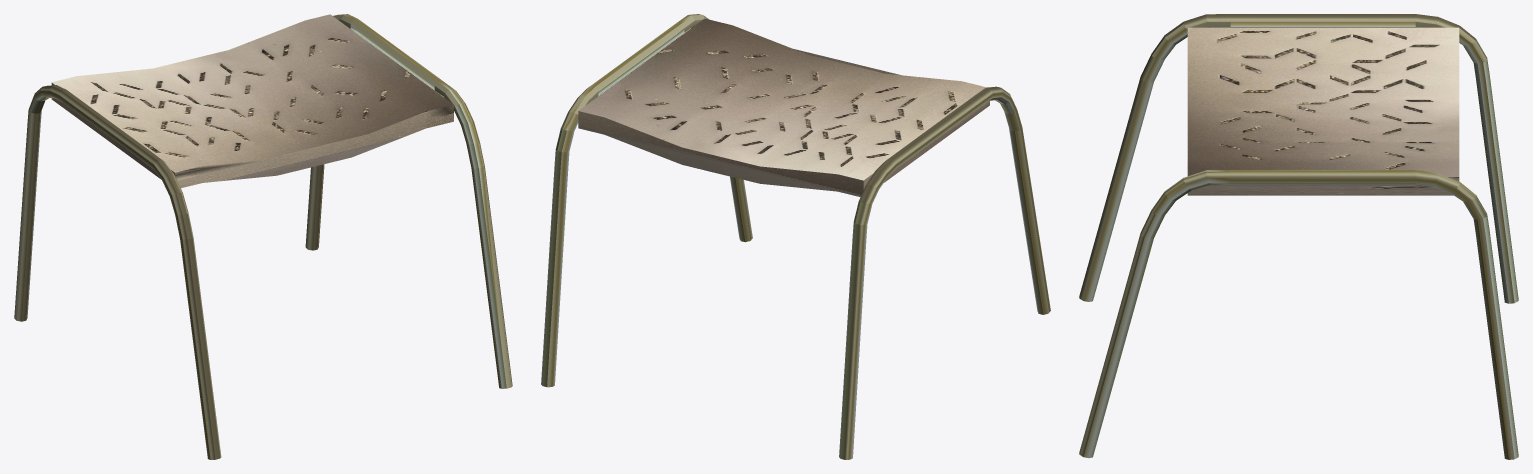
File: chair.obj
3 views of the same model, side by side, from view 1: azimuth 30°, elevation 25°; view 2: azimuth 150°, elevation 25°; view 3: azimuth 270°, elevation 25° (orthographic). The views are drawn at different scales.
Parts seen in each view (by area): view 1: Chair.038; view 2: Chair.038; view 3: Chair.038.
Boxes of the visible parts, x1,y1,x2,y2 form: Chair.038: [14, 14, 512, 459]; Chair.038: [541, 14, 1050, 459]; Chair.038: [1079, 14, 1518, 459].
Bounding box in the file's own units: 0.5432 × 0.4475 × 0.6224.
